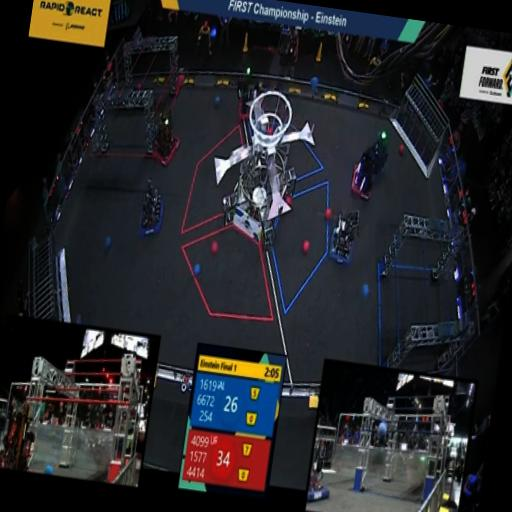robot: (142, 104, 190, 174), (128, 176, 176, 242), (323, 202, 364, 274), (342, 147, 382, 208), (232, 68, 268, 128), (363, 127, 394, 178)
